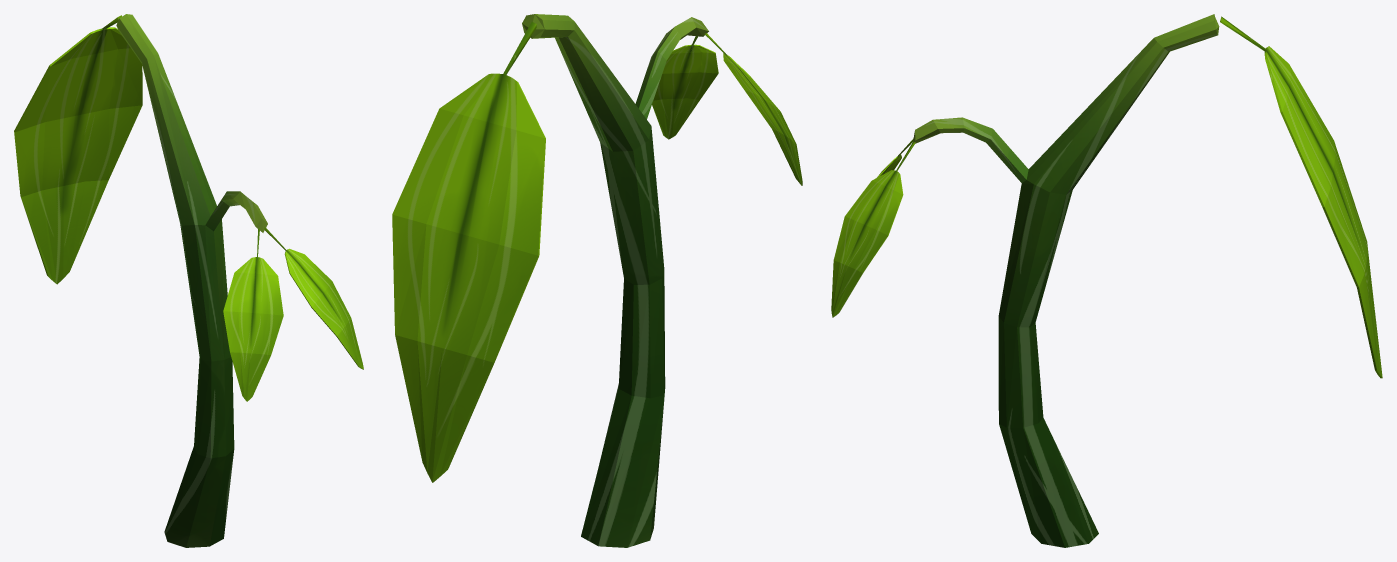
The model's file is Sapling_1.obj.
3 renders of one model, left to right at view 1: azimuth 30°, elevation 25°; view 2: azimuth 150°, elevation 25°; view 3: azimuth 270°, elevation 25°, orthographic. The views are drawn at different scales.
Parts seen in each view (by area): view 1: Sapling_1; view 2: Sapling_1; view 3: Sapling_1.
Part boxes in pixels (x1,y1,x2,y2): Sapling_1: [14, 14, 363, 547]; Sapling_1: [392, 14, 802, 547]; Sapling_1: [831, 14, 1382, 547].
Bounding box in the file's own units: 1.94 × 7.12 × 6.81.
